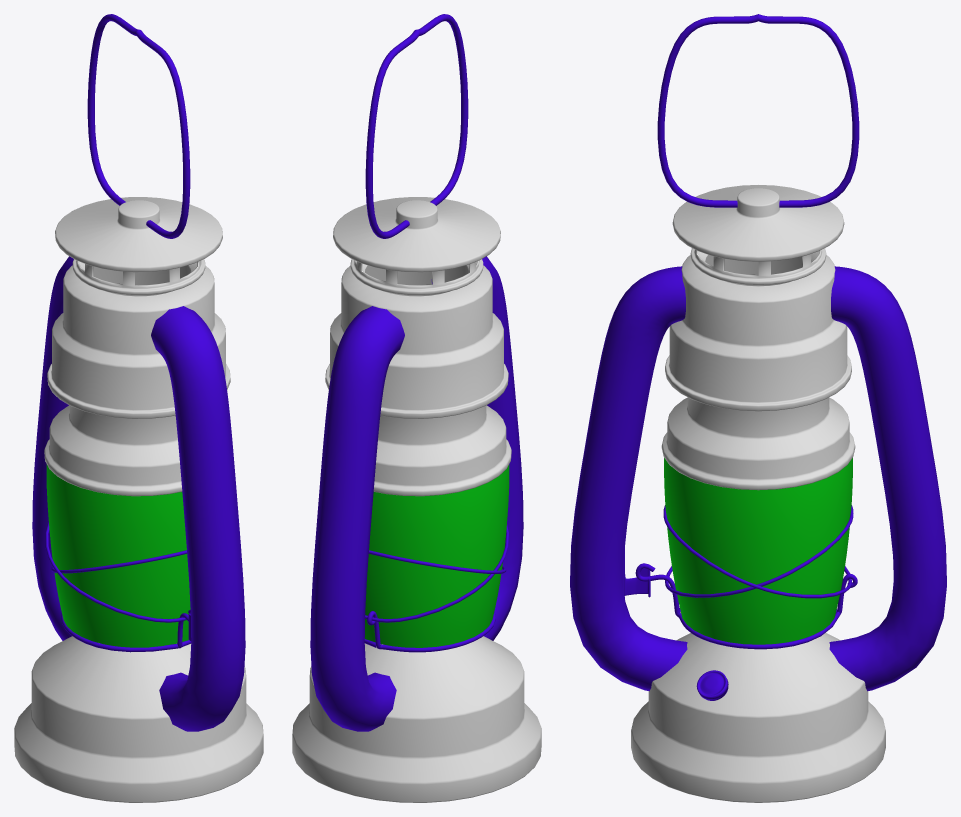
Rendered from Lamp.fbx.
3 views of the same model, side by side, from view 1: azimuth 30°, elevation 25°; view 2: azimuth 150°, elevation 25°; view 3: azimuth 270°, elevation 25° (orthographic).
Visible parts, largest first — view 1: Lamp; view 2: Lamp; view 3: Lamp.
Boxes of the visible parts, x1,y1,x2,y2 form: Lamp: (14,14,263,802); Lamp: (292,14,541,802); Lamp: (570,14,946,802).
Size of the model in its own units: 13.9 by 44.26 by 20.56.
